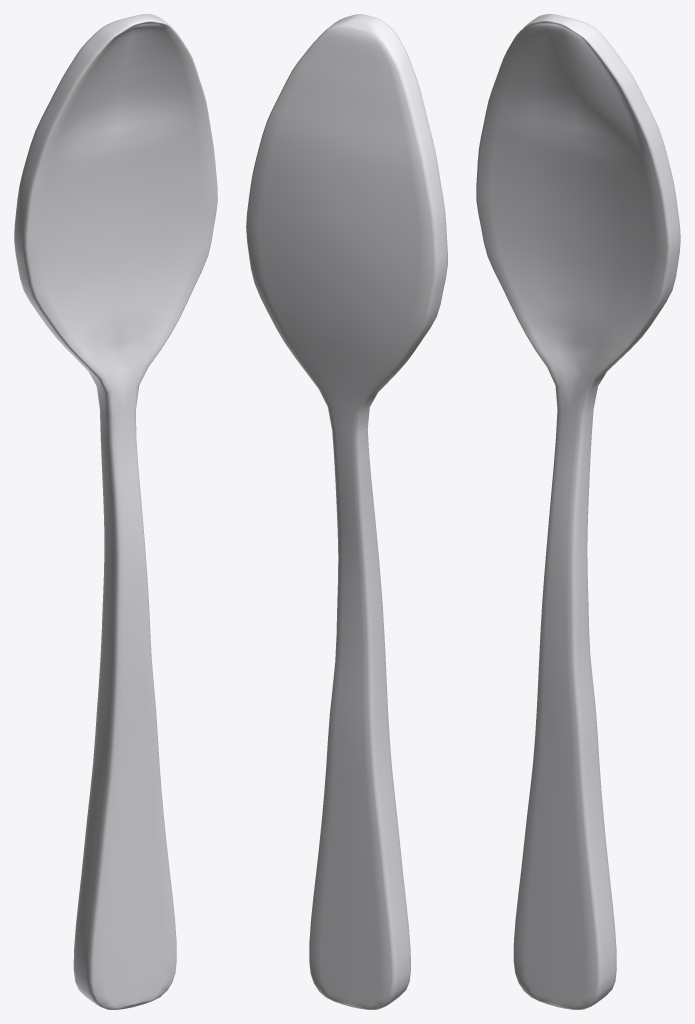
The model's file is spoon.gltf.
The picture shows the model from 3 angles, left to right: view 1: azimuth 30°, elevation 25°; view 2: azimuth 150°, elevation 25°; view 3: azimuth 330°, elevation 25°; orthographic projection.
Size of the model in its own units: 10.13 by 49.13 by 3.26.
1 material, 1 textured.
